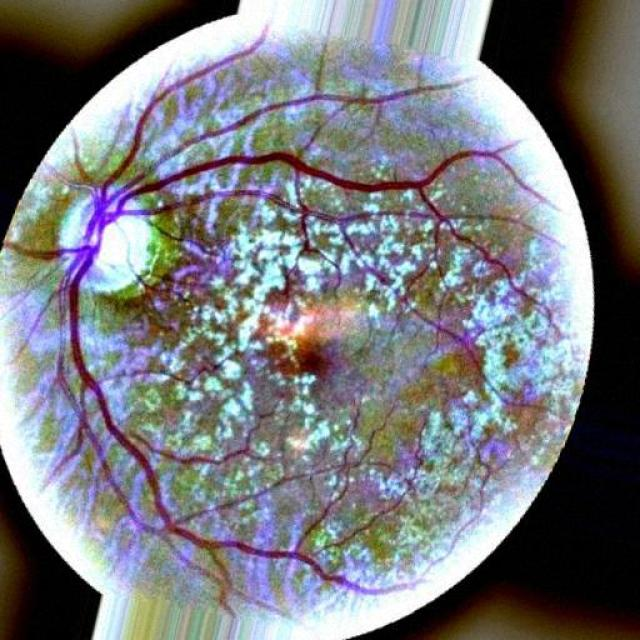Macula: (282, 332, 345, 393)
Nerves: (19, 38, 548, 488), (159, 85, 439, 162)
Optic Disk: (59, 189, 151, 291)
